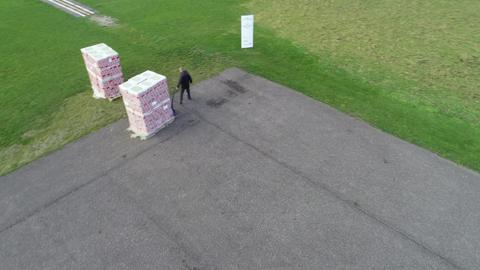RockwoolPallet: (81, 40, 127, 107)
